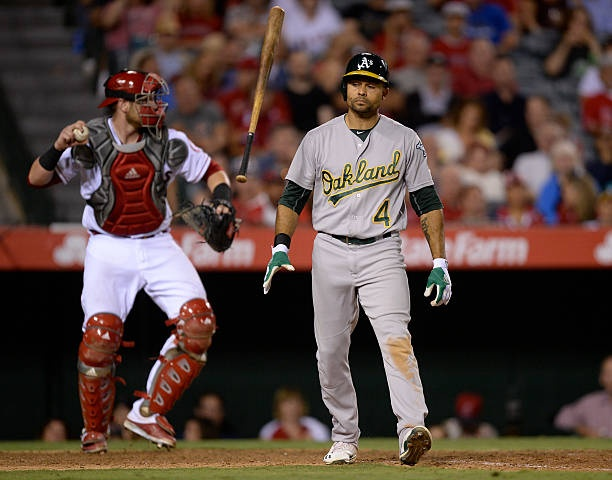bita: (235, 3, 282, 183)
